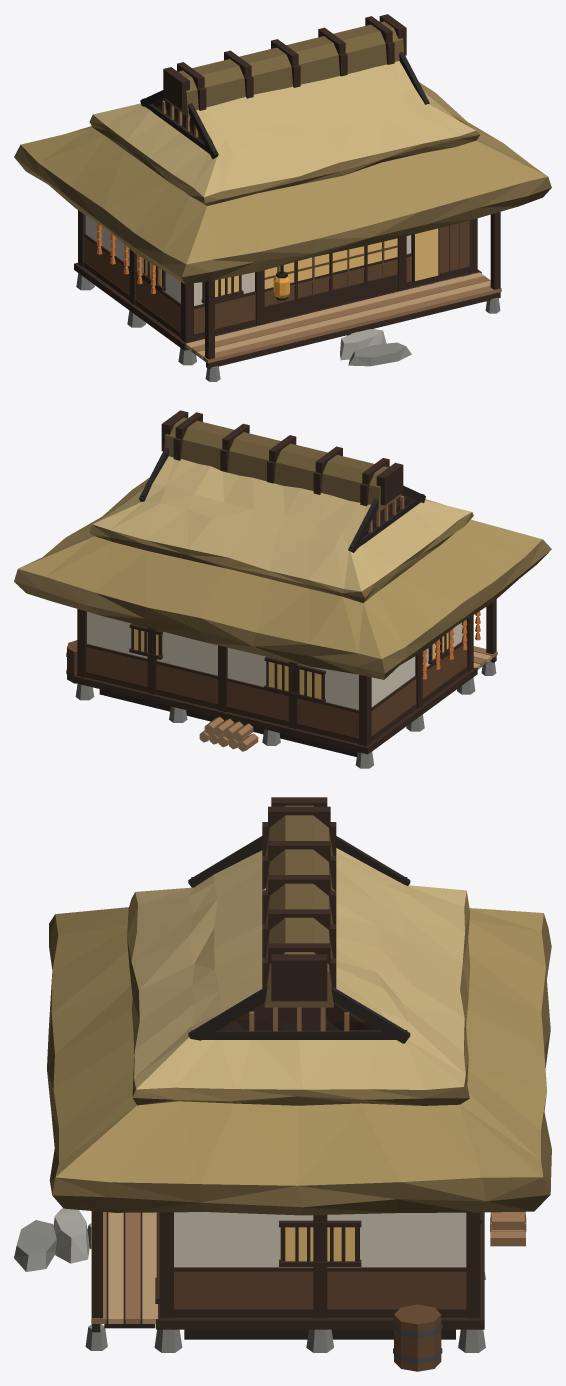
File: house_kaito.fbx
The picture shows the model from 3 angles, top to bottom: view 1: azimuth 30°, elevation 25°; view 2: azimuth 150°, elevation 25°; view 3: azimuth 270°, elevation 25°; orthographic projection. The views are drawn at different scales.
Parts seen in each view (by area): view 1: house_kaito; view 2: house_kaito; view 3: house_kaito.
Part boxes in pixels (bbox=[...]): house_kaito: bbox=[14, 14, 551, 381]; house_kaito: bbox=[14, 410, 551, 768]; house_kaito: bbox=[14, 797, 551, 1371].
Bounding box in the file's own units: 9.24 × 5.85 × 7.73.
